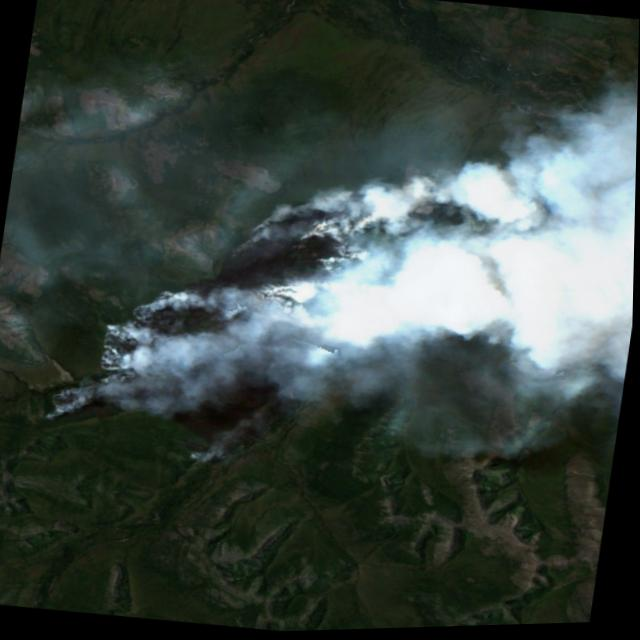fire: (36, 154, 520, 506)
